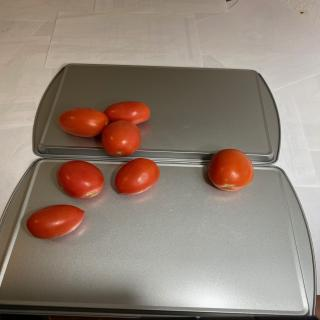Tomato: (26, 204, 85, 240), (208, 148, 254, 192), (56, 160, 105, 199), (115, 158, 160, 195), (58, 108, 109, 138), (102, 120, 142, 157), (104, 101, 150, 124)
